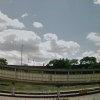Tree: (46, 48, 100, 68)
